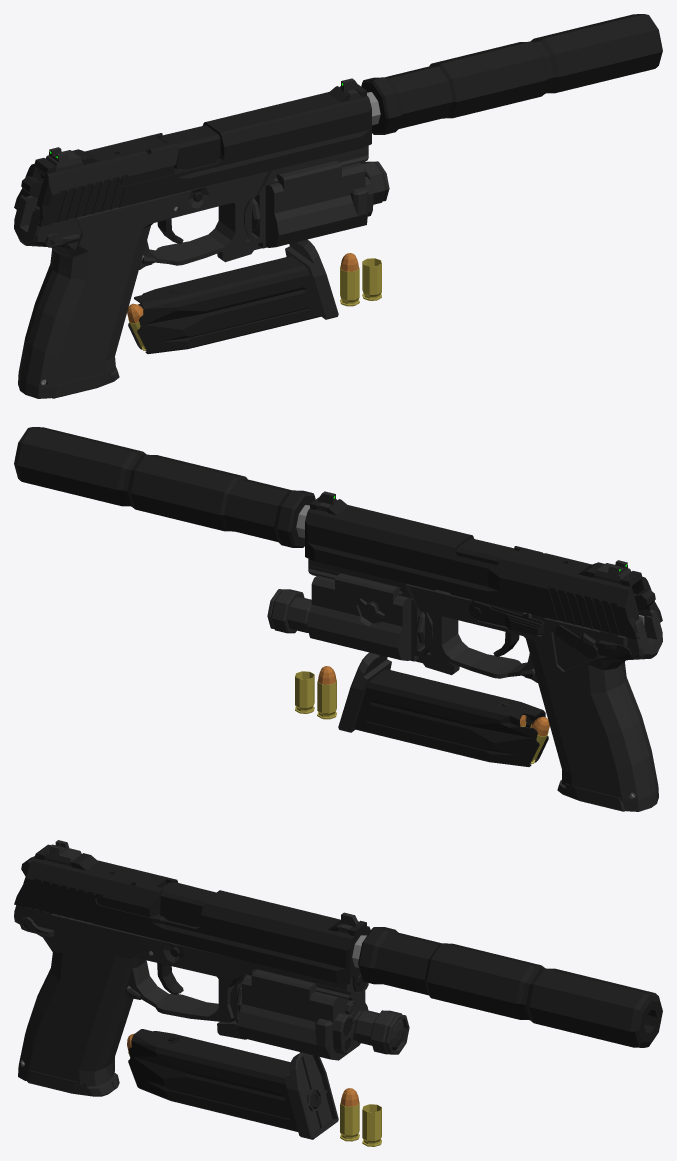
Rendered from low-poly_hk_mark_23_socom.glb.
3 views of the same model, one above another, from view 1: azimuth 30°, elevation 25°; view 2: azimuth 150°, elevation 25°; view 3: azimuth 330°, elevation 25° (orthographic).
Visible parts, largest first — view 1: mk23 frame_5, mk23 slide_10, mk23 silencer_9, mk23 12rnd mag_3, mk23 lam_7, mk23 barrel_4, 45acp_0, mk23 12rnd empty _2, 45acp case_1; view 2: mk23 frame_5, mk23 slide_10, mk23 silencer_9, mk23 12rnd mag_3, mk23 lam_7, mk23 slide catch_11, 45acp_0, mk23 barrel_4, mk23 12rnd empty _2, 45acp case_1; view 3: mk23 frame_5, mk23 slide_10, mk23 silencer_9, mk23 12rnd mag_3, mk23 lam_7, mk23 barrel_4, mk23 12rnd empty _2, 45acp_0, 45acp case_1, mk23 trigga_12.
Boxes of the visible parts, x1,y1,x2,y2 form: mk23 frame_5: (14,145,368,398); mk23 slide_10: (14,78,371,226); mk23 silencer_9: (361,14,662,134); mk23 12rnd mag_3: (127,239,338,353); mk23 lam_7: (217,160,389,262); mk23 barrel_4: (159,125,220,169); 45acp_0: (340,253,359,306); mk23 12rnd empty _2: (51,367,119,398); 45acp case_1: (362,258,381,300); mk23 frame_5: (308,558,662,811); mk23 slide_10: (305,491,662,639); mk23 silencer_9: (14,427,315,547); mk23 12rnd mag_3: (338,652,549,766); mk23 lam_7: (267,573,459,675); mk23 slide catch_11: (468,600,544,635); 45acp_0: (317,666,336,719); mk23 barrel_4: (456,538,517,564); mk23 12rnd empty _2: (557,780,625,811); 45acp case_1: (295,671,314,713); mk23 frame_5: (14,905,368,1086); mk23 slide_10: (14,840,370,991); mk23 silencer_9: (352,927,662,1047); mk23 12rnd mag_3: (127,1029,338,1139); mk23 lam_7: (217,969,409,1060); mk23 barrel_4: (160,882,216,926); mk23 12rnd empty _2: (26,1070,119,1096); 45acp_0: (340,1088,359,1141); 45acp case_1: (362,1104,381,1146); mk23 trigga_12: (157,963,183,994).
Size of the model in its own units: 4.31 by 1.53 by 0.4994.
